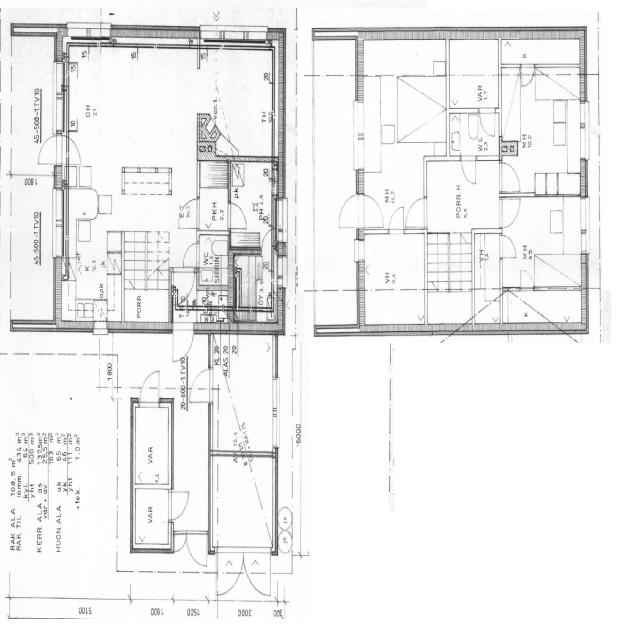door: (244, 546, 273, 600), (216, 546, 244, 598), (182, 529, 210, 569), (360, 192, 386, 232), (498, 192, 524, 230), (171, 322, 195, 362), (172, 266, 196, 306), (498, 157, 522, 196), (168, 486, 192, 524), (337, 191, 361, 229), (139, 367, 162, 405), (189, 366, 212, 402), (36, 134, 60, 168), (405, 194, 427, 230), (478, 104, 499, 140), (178, 195, 200, 229), (227, 200, 248, 231), (459, 153, 478, 187), (499, 230, 518, 261), (181, 239, 200, 269), (64, 135, 82, 166), (388, 203, 405, 235), (518, 263, 536, 292), (171, 526, 189, 554), (342, 235, 360, 263), (519, 61, 535, 89)
window: (51, 182, 70, 267), (54, 61, 70, 137), (352, 96, 366, 174), (221, 31, 270, 49), (578, 192, 592, 254), (578, 97, 590, 165), (93, 322, 109, 335)
zone: (59, 47, 197, 326), (358, 38, 448, 168), (500, 63, 587, 194), (200, 44, 278, 160), (212, 331, 276, 454), (501, 197, 586, 287), (358, 232, 426, 332), (210, 455, 276, 551), (424, 157, 498, 236), (428, 232, 488, 327), (228, 159, 281, 250), (448, 35, 501, 110), (232, 252, 280, 326), (132, 400, 172, 488), (449, 107, 501, 158), (197, 231, 232, 306), (133, 486, 171, 552), (197, 172, 230, 234), (474, 230, 502, 289), (498, 158, 522, 196), (338, 191, 360, 229), (498, 231, 518, 261)
